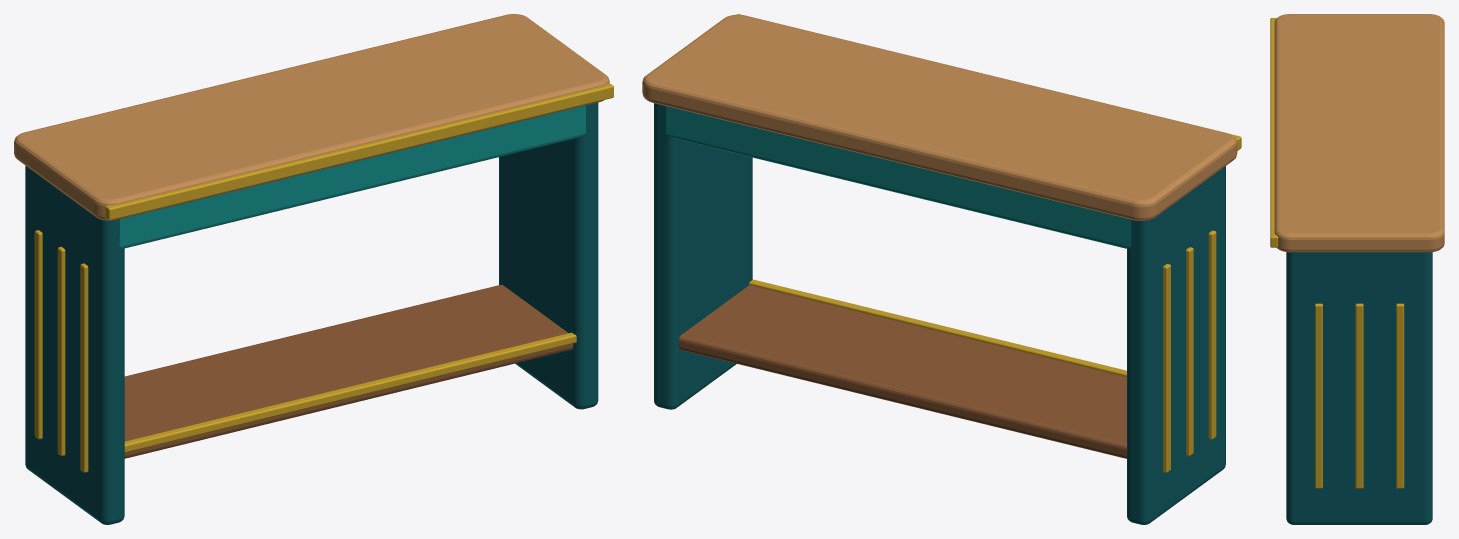
The model's file is lobby-console-table.glb.
3 renders of one model, left to right at view 1: azimuth 30°, elevation 25°; view 2: azimuth 150°, elevation 25°; view 3: azimuth 270°, elevation 25°, orthographic. The views are drawn at different scales.
Parts seen in each view (by area): view 1: top, shelf, end.left, end.right, apron, top.nose, shelf.nose, end.left.flute.2, end.left.flute.0, end.left.flute.1; view 2: top, shelf, end.left, end.right, apron, shelf.nose, end.left.flute.2, end.left.flute.1, end.left.flute.0; view 3: top, end.right, end.right.flute.1, end.right.flute.0, end.right.flute.2, top.nose.
Part boxes in pixels (left/top/right/bottom): top: left=14, top=14, right=609, bottom=220; shelf: left=124, top=284, right=573, bottom=458; end.left: left=25, top=165, right=124, bottom=524; end.right: left=499, top=102, right=598, bottom=409; apron: left=119, top=105, right=585, bottom=248; top.nose: left=105, top=83, right=613, bottom=220; shelf.nose: left=124, top=332, right=576, bottom=452; end.left.flute.2: left=80, top=263, right=88, bottom=472; end.left.flute.0: left=34, top=230, right=42, bottom=439; end.left.flute.1: left=57, top=246, right=65, bottom=455; top: left=642, top=14, right=1237, bottom=220; shelf: left=678, top=285, right=1126, bottom=458; end.left: left=1127, top=166, right=1225, bottom=524; end.right: left=654, top=103, right=752, bottom=409; apron: left=666, top=106, right=1131, bottom=248; shelf.nose: left=749, top=279, right=1126, bottom=377; end.left.flute.2: left=1208, top=230, right=1216, bottom=439; end.left.flute.1: left=1186, top=247, right=1193, bottom=456; end.left.flute.0: left=1163, top=264, right=1170, bottom=472; top: left=1274, top=14, right=1444, bottom=252; end.right: left=1286, top=252, right=1432, bottom=524; end.right.flute.1: left=1355, top=303, right=1363, bottom=488; end.right.flute.0: left=1396, top=303, right=1404, bottom=488; end.right.flute.2: left=1315, top=303, right=1322, bottom=488; top.nose: left=1270, top=18, right=1278, bottom=247.
Bounding box in the file's own units: 1.3 × 0.8 × 0.43.
